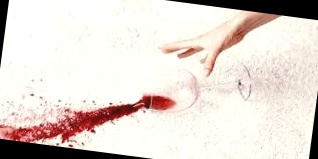wine: (0, 70, 164, 157)
